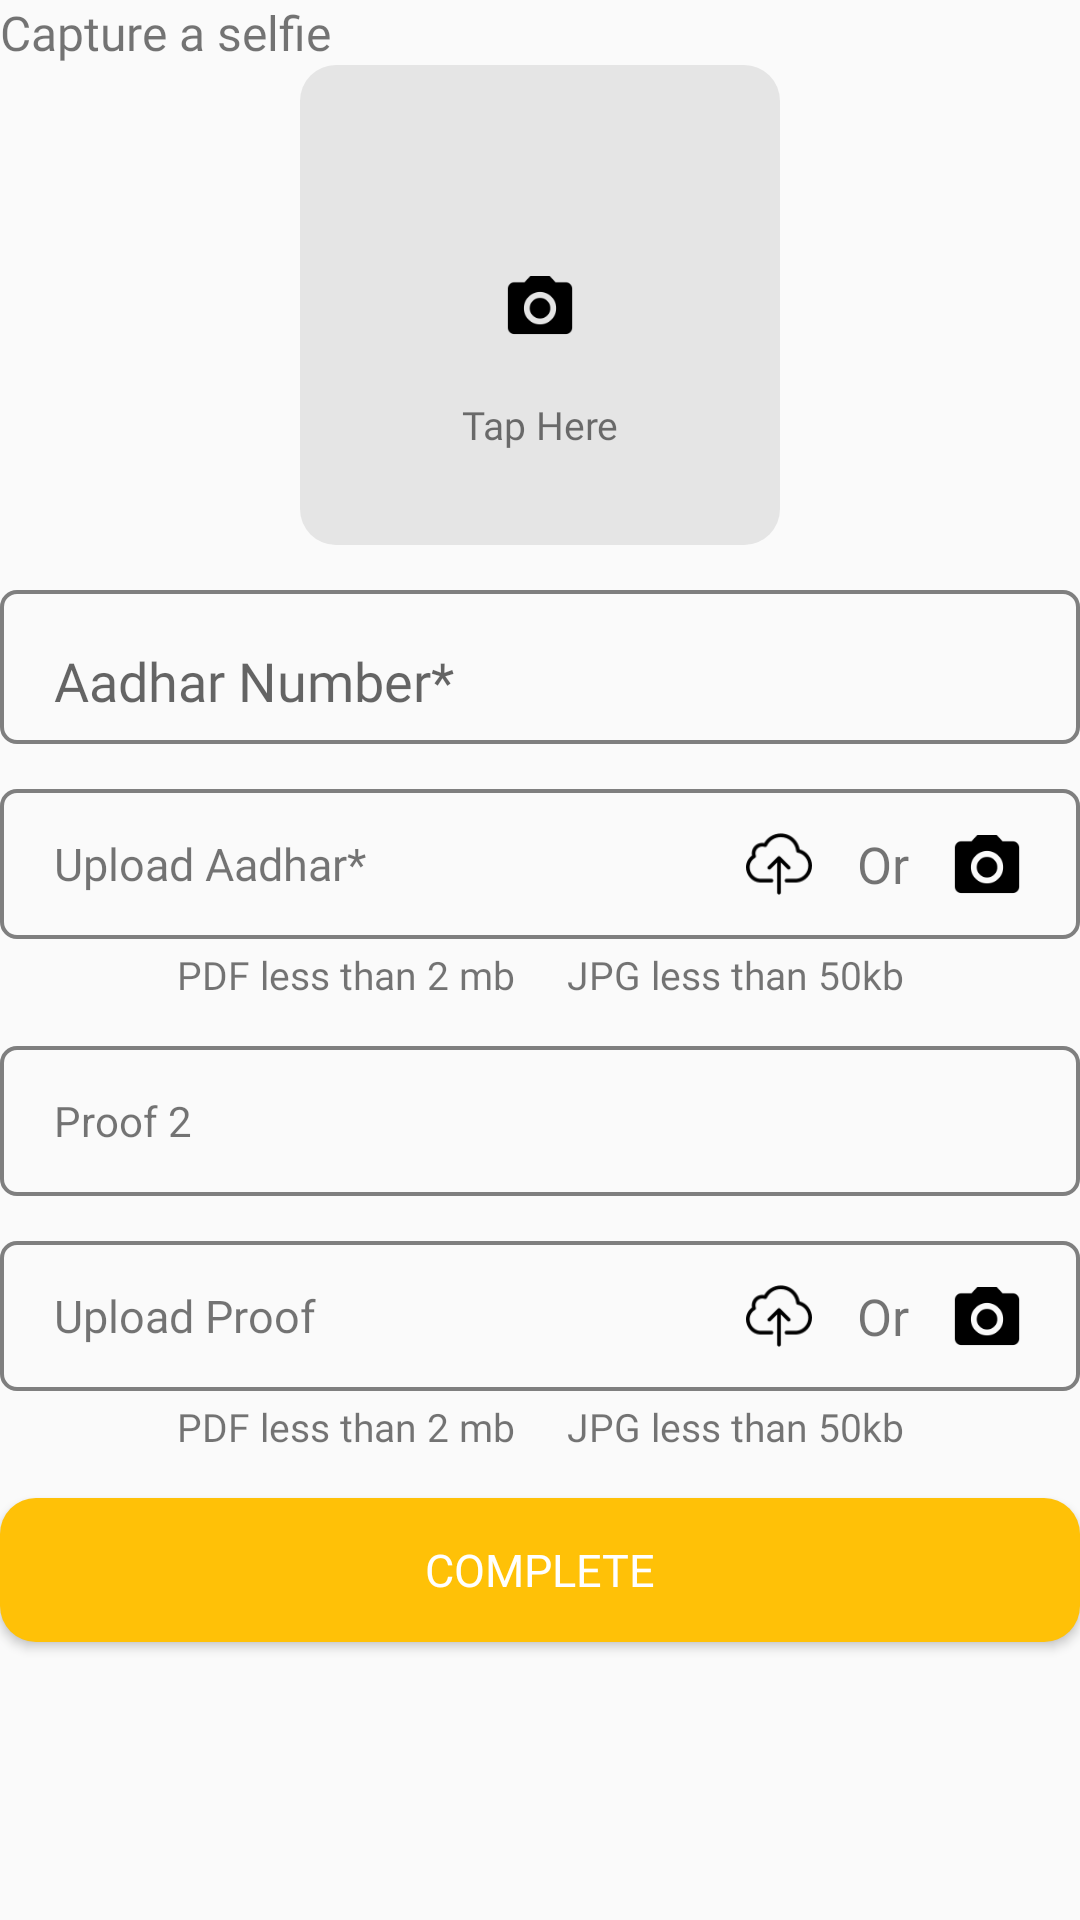

Where to tap for icons on this 1080w x 1920h app screen, as point (x, y):
camera: point (540, 305), point (987, 864), point (987, 1316)
